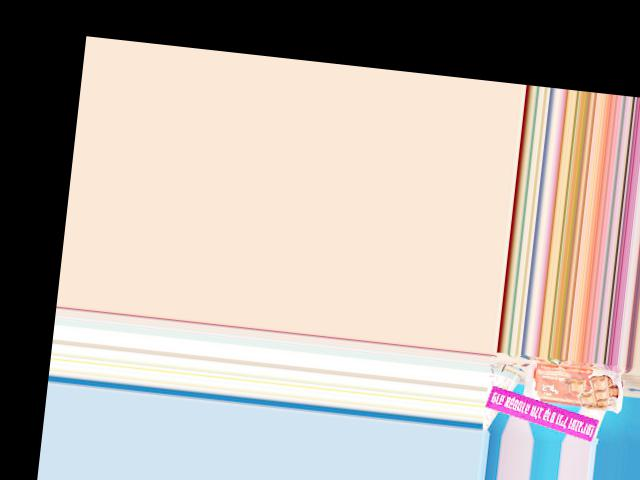chocolate: (520, 358, 628, 415)
